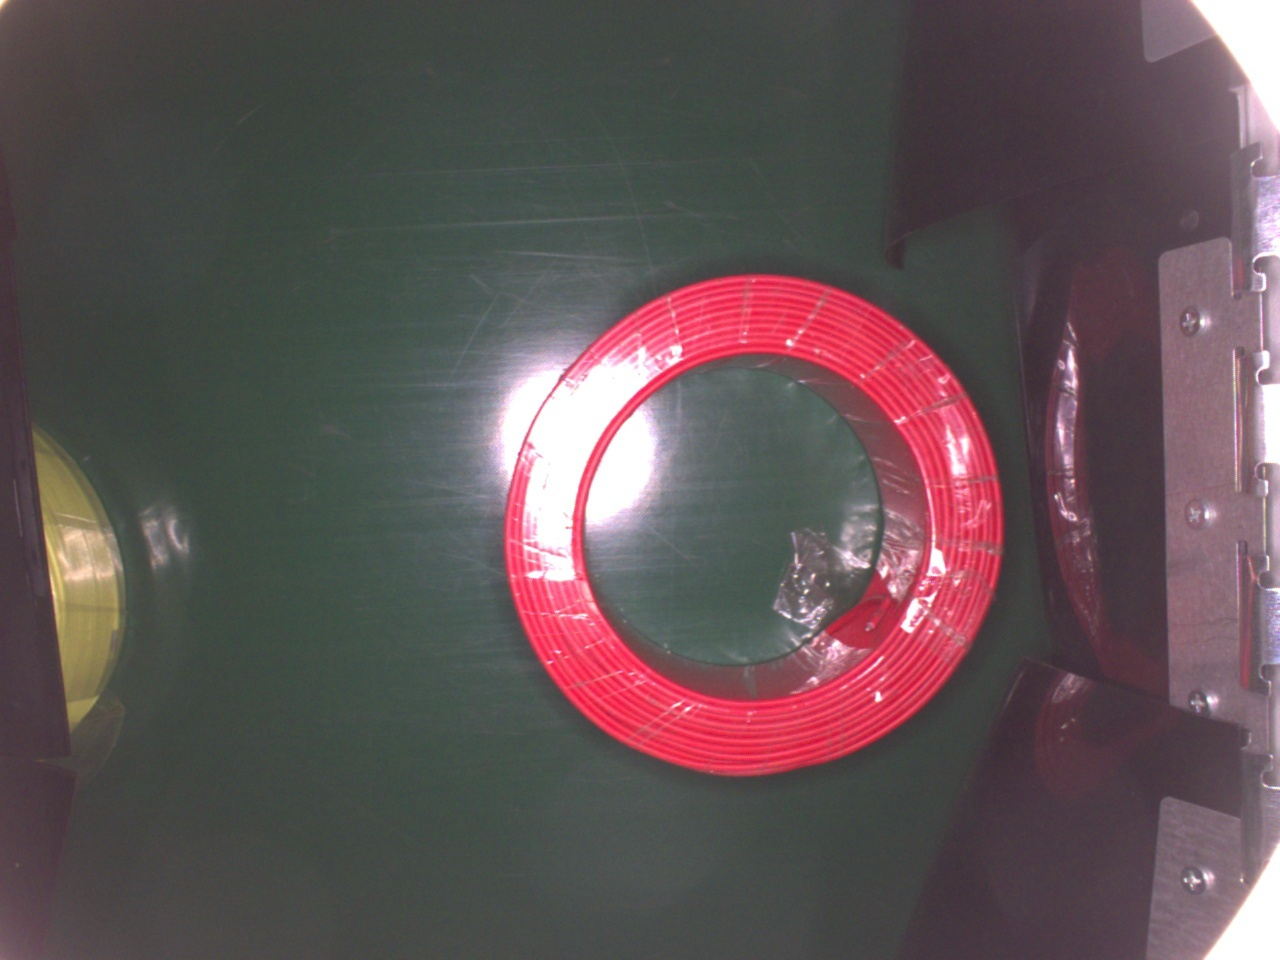red: (502, 270, 1005, 776)
